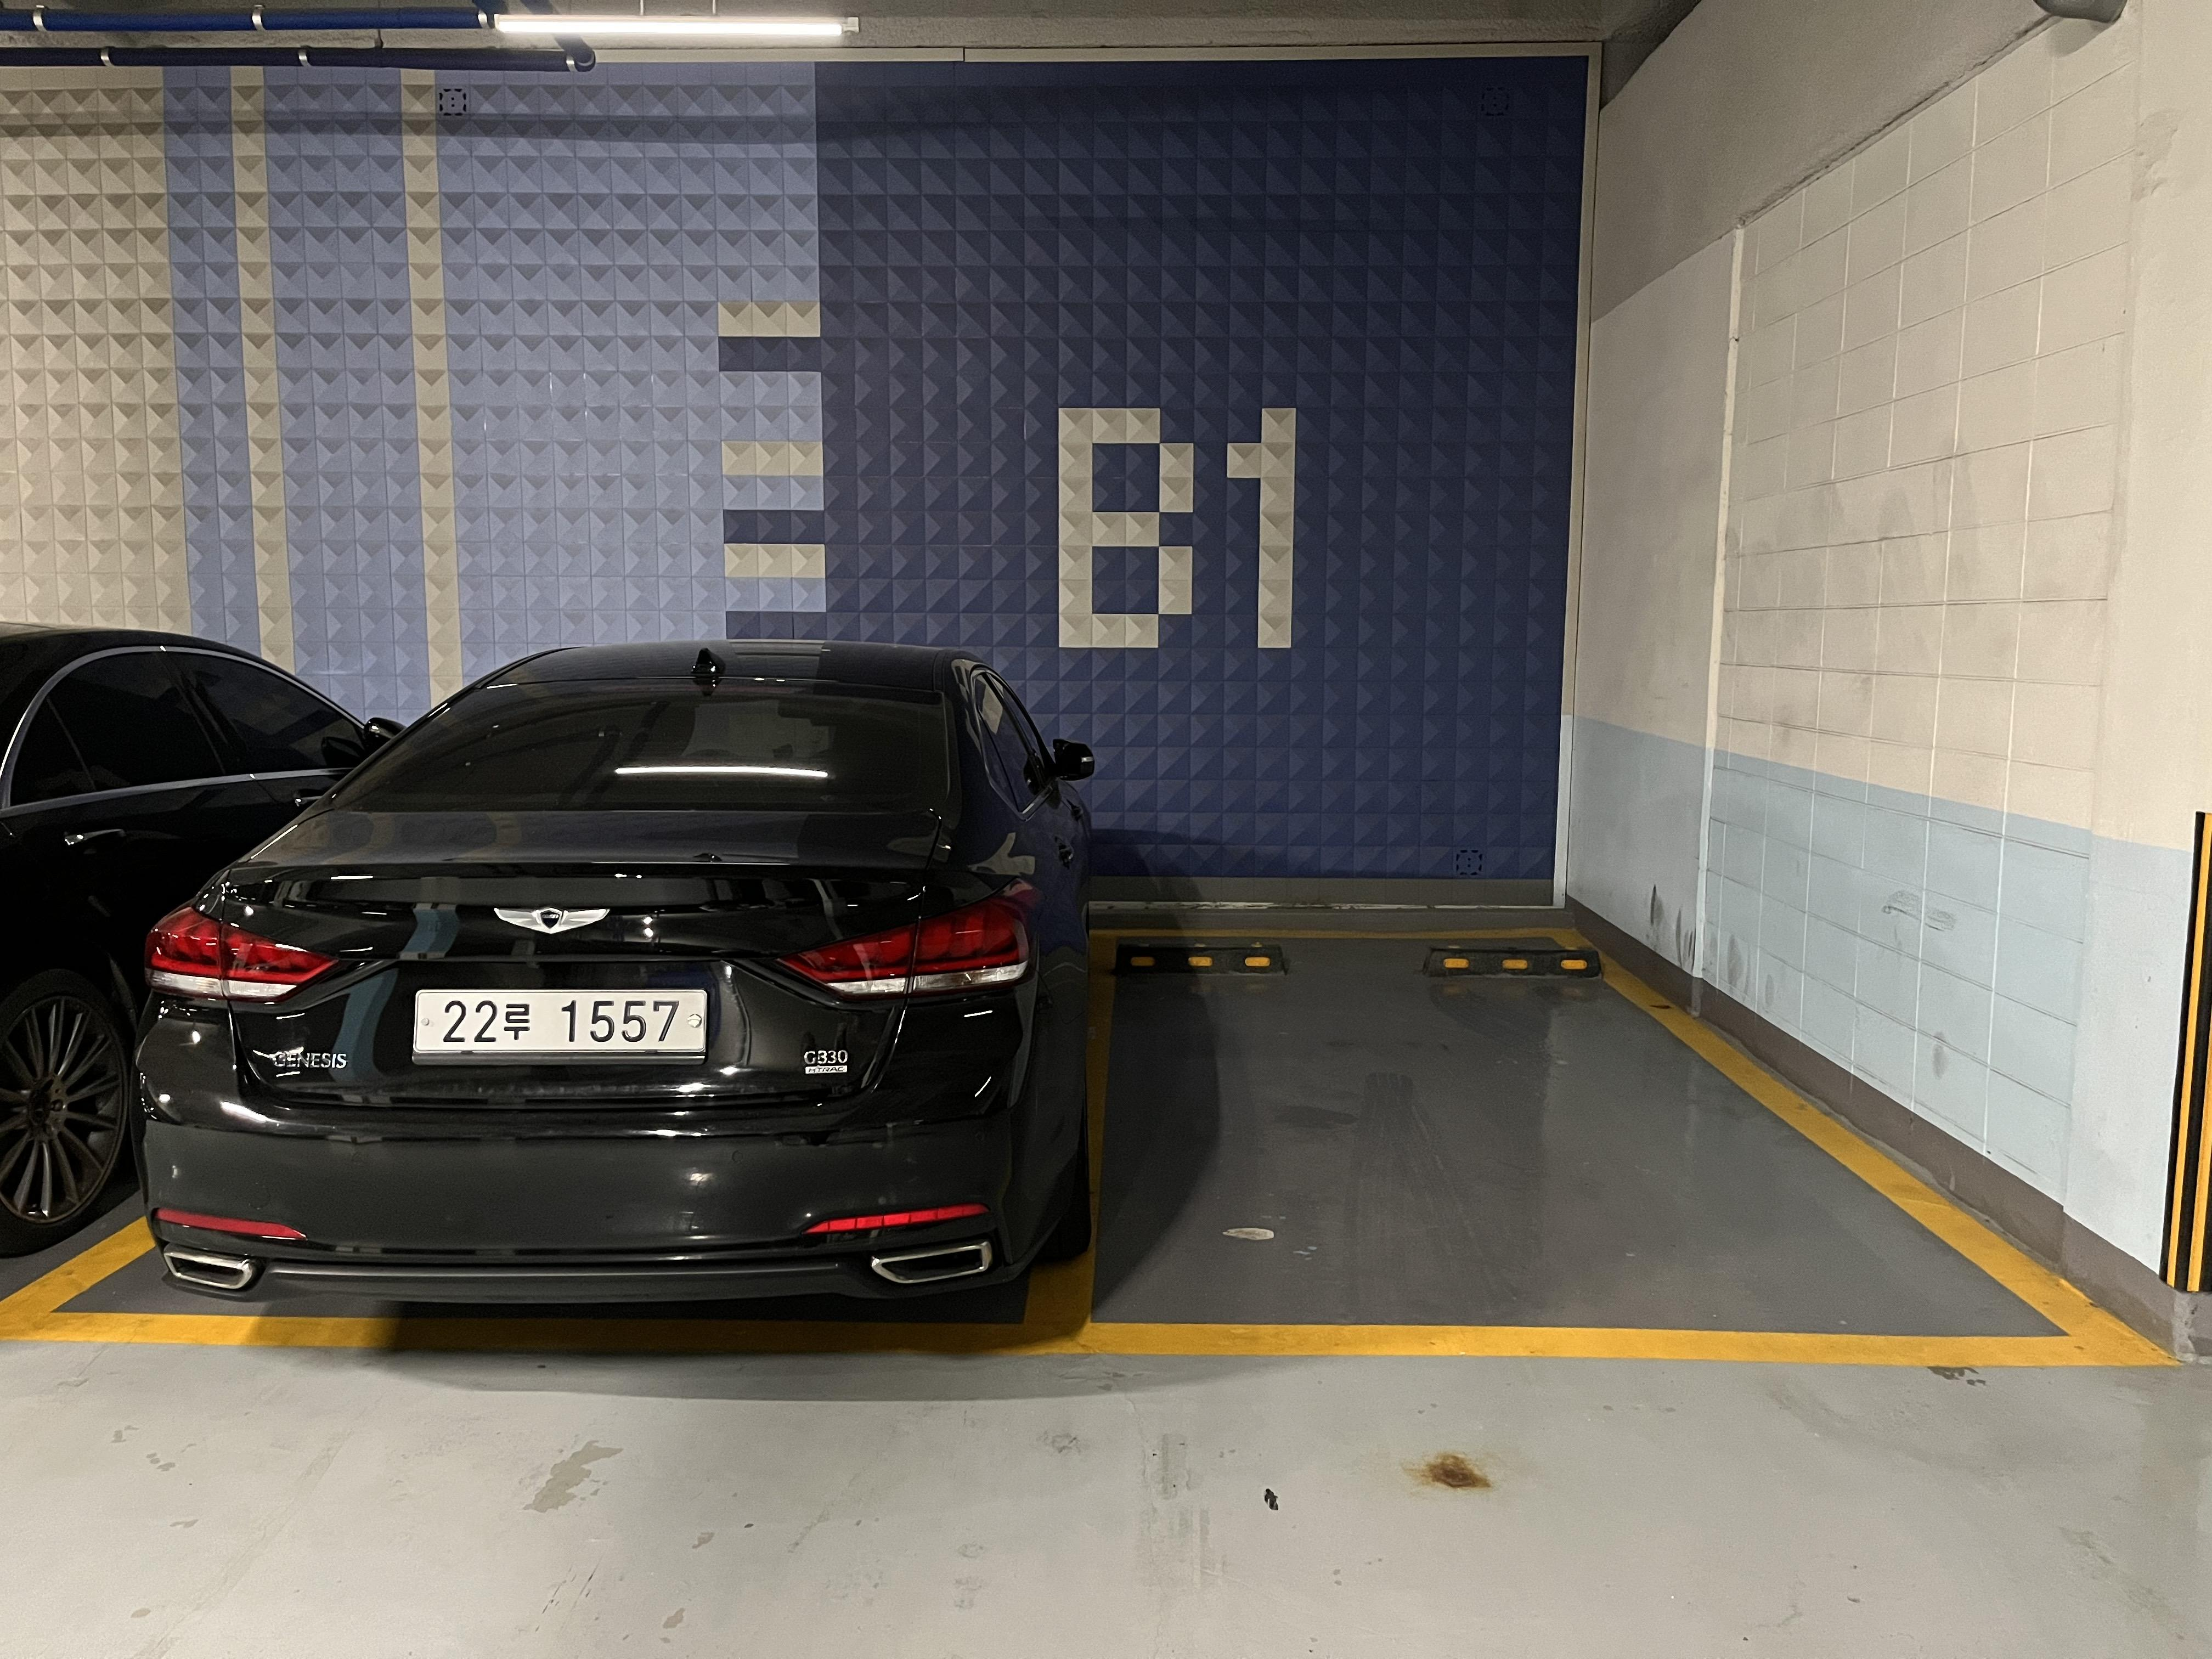empty: (1053, 904, 2198, 1363)
occupied: (64, 555, 1081, 1411)
